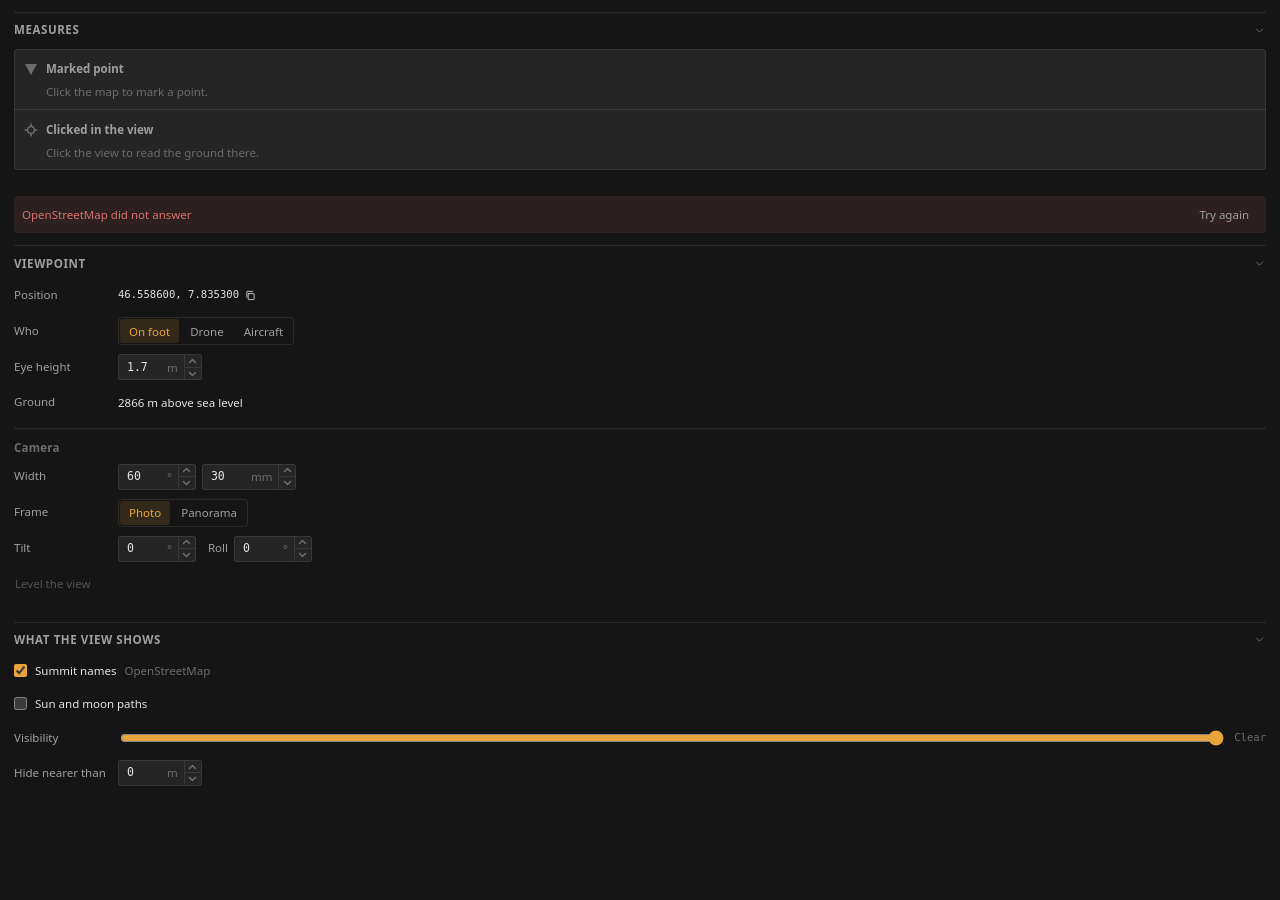
Test: the Horizon inspector › says what failed beside the picture, with a way to try again
Expected: the message "OpenStreetMap did not answer Try again" is shown, x1=14 y1=196 x2=1266 y2=233
Click the button "Try again" at (1224, 215), box x1=1190 y1=202 x2=1258 y2=227
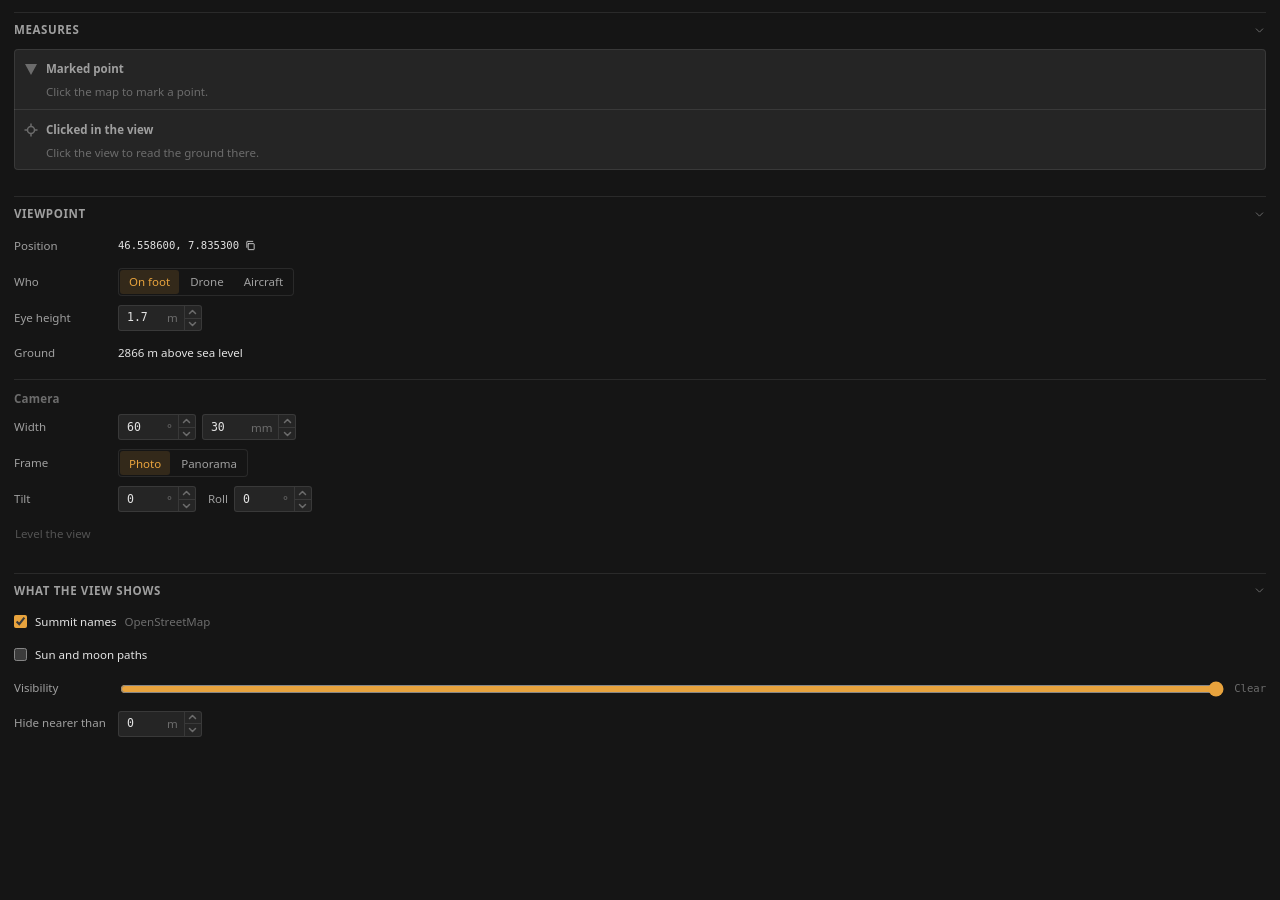
Expected: the message "OpenStreetMap did not answer Try again" is gone
